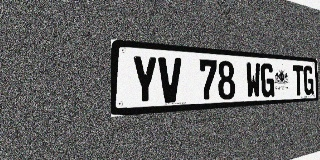7: (198, 59, 218, 101)
8: (218, 60, 235, 100)
G: (261, 63, 274, 98), (303, 66, 314, 95)
T: (293, 65, 304, 96)
V: (158, 57, 182, 103)
W: (246, 62, 261, 98)
Y: (131, 55, 158, 105)
